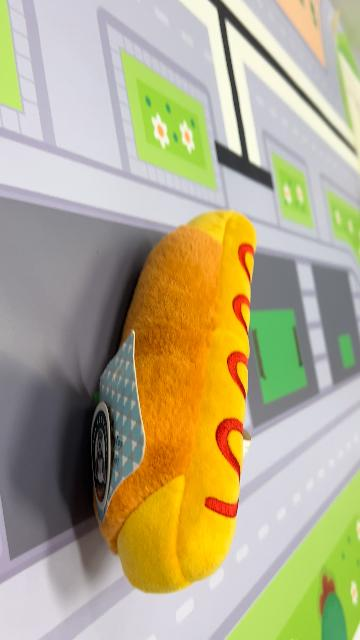hotdog: (88, 208, 260, 596)
